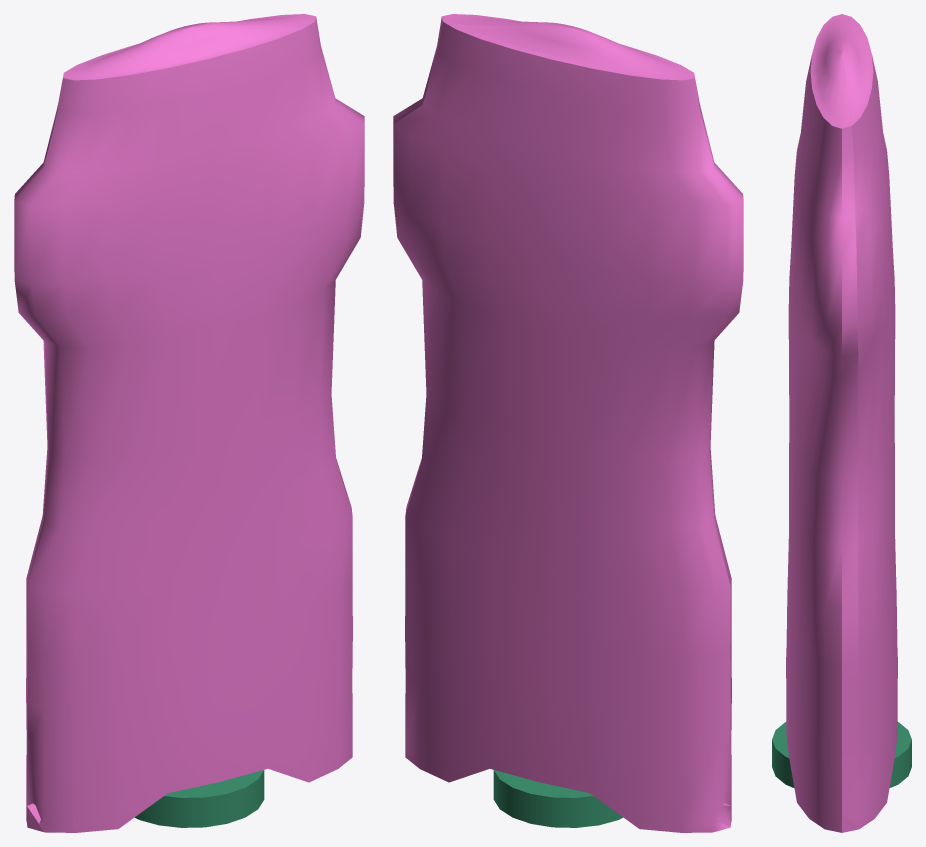
The picture shows the model from 3 angles, left to right: view 1: azimuth 30°, elevation 25°; view 2: azimuth 150°, elevation 25°; view 3: azimuth 270°, elevation 25°; orthographic projection. The views are drawn at different scales.
Visible parts, largest first — view 1: split_parent_0, pCylinder1_lambert1_0; view 2: split_parent_0, pCylinder1_lambert1_0; view 3: split_parent_0, pCylinder1_lambert1_0.
Boxes of the visible parts, x1=… form: split_parent_0: x1=14, y1=14, x2=364, y2=832; pCylinder1_lambert1_0: x1=135, y1=770, x2=264, y2=827; split_parent_0: x1=393, y1=14, x2=743, y2=832; pCylinder1_lambert1_0: x1=493, y1=770, x2=622, y2=827; split_parent_0: x1=786, y1=14, x2=897, y2=832; pCylinder1_lambert1_0: x1=772, y1=722, x2=911, y2=787.
Bounding box in the file's own units: 0.4772 × 1 × 0.1774.
